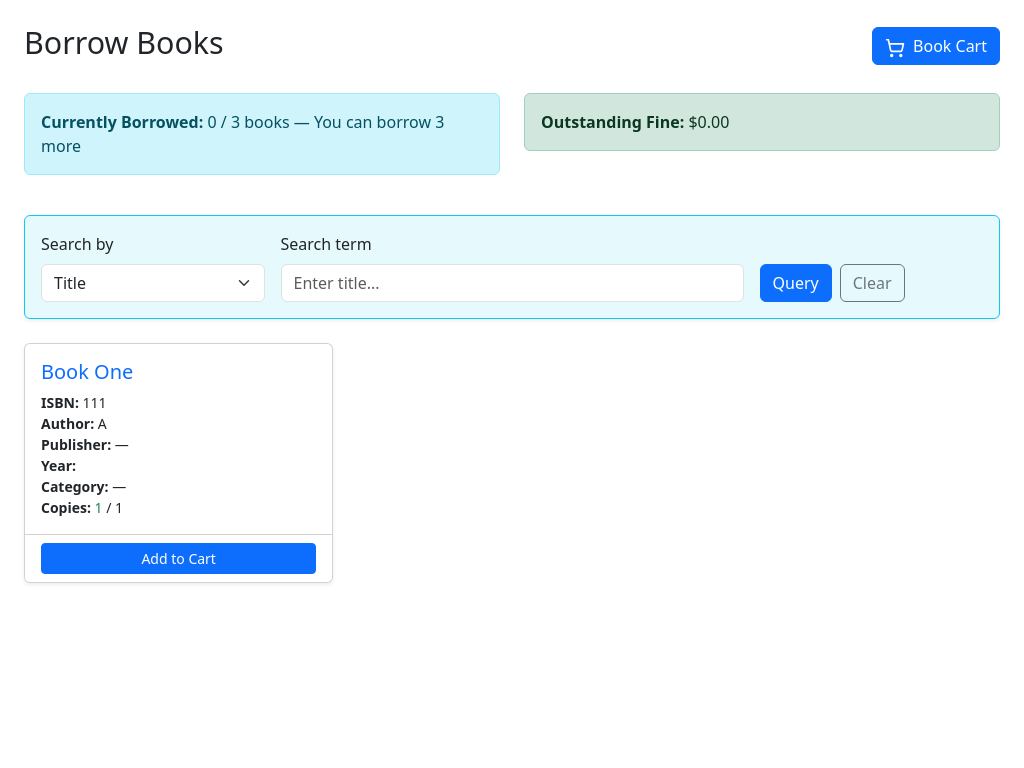
Test: BorrowBooks › member borrows 1 book and checks out successfully from cart
// Add to cart
Click the button "Add to Cart".
click(179, 558)  # box top-left (41, 542), bottom-right (316, 574)
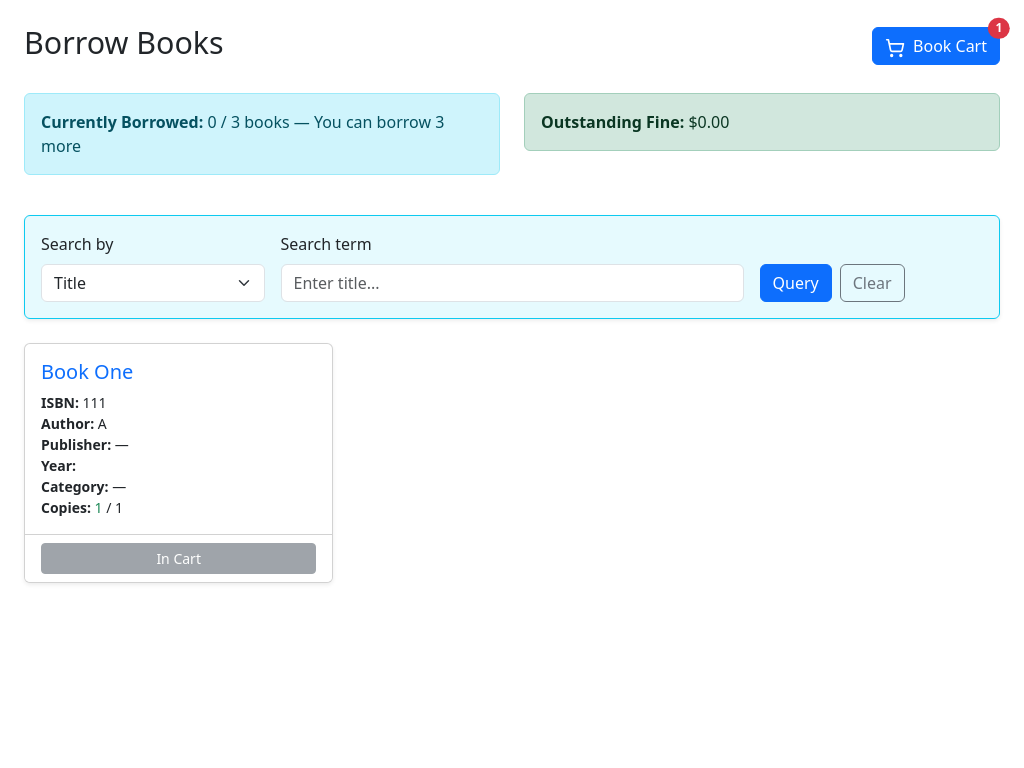
Result: the button "In Cart" is shown at top-left (41, 542), bottom-right (316, 574)
// Open cart
Click the button "Book Cart 1".
click(936, 46)  # box top-left (872, 27), bottom-right (1000, 65)
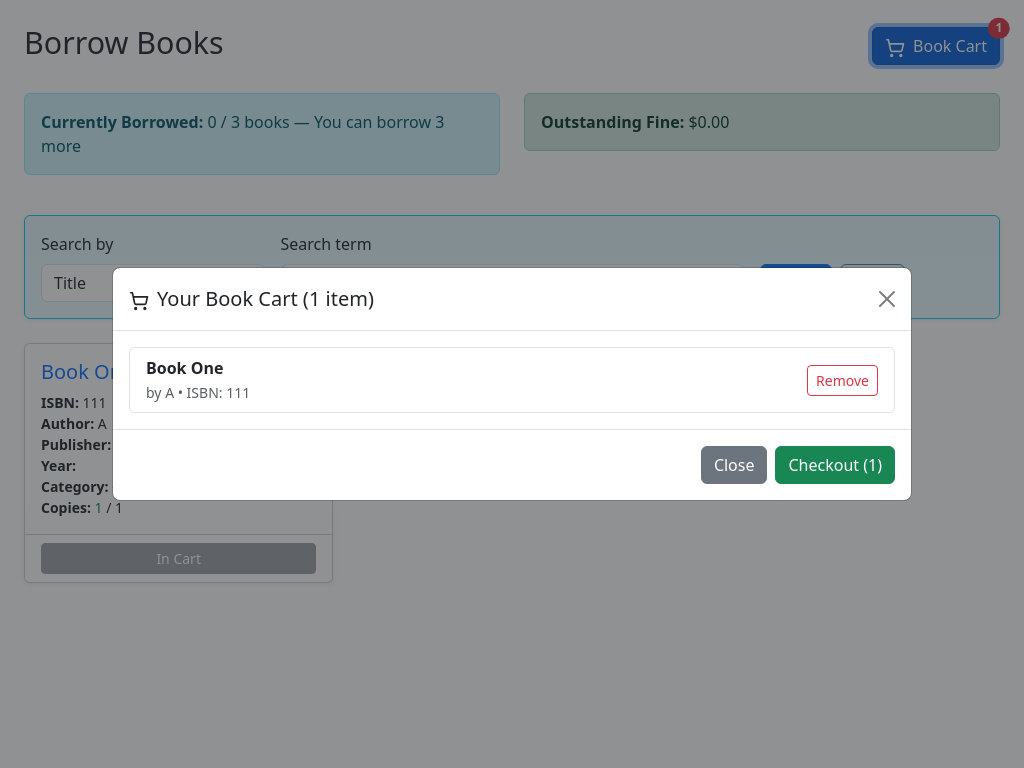
Click the button "Checkout (1)".
click(835, 465)  # box top-left (776, 446), bottom-right (895, 484)
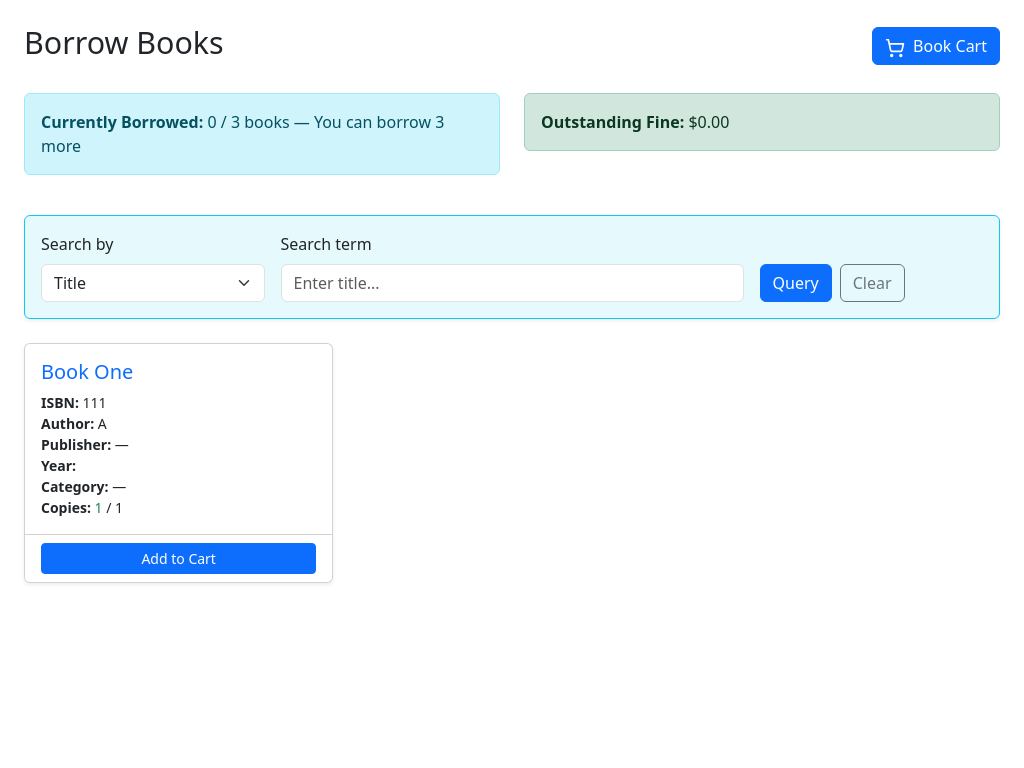
Expected: the button "Book Cart" is shown, top-left (872, 27), bottom-right (1000, 65)
Result: the button "Book Cart 1" is gone
